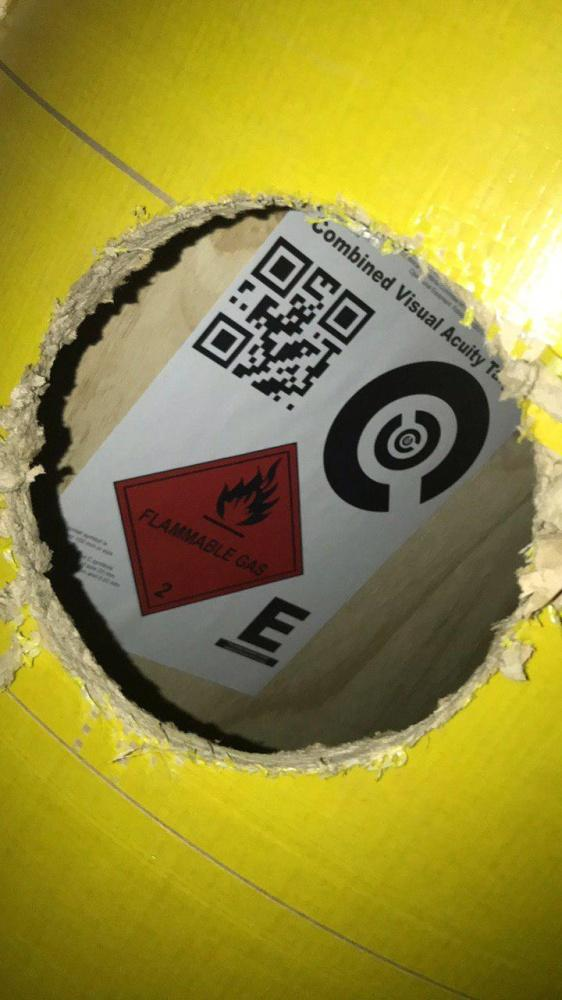flammable: (118, 444, 303, 614)
